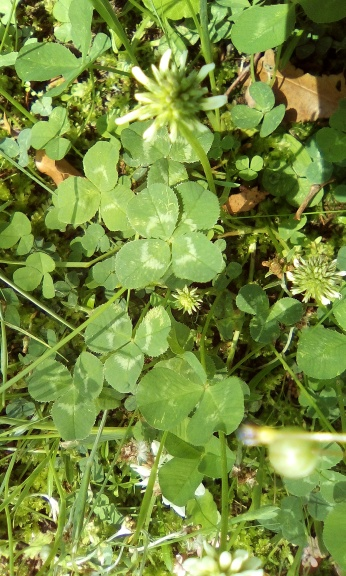4leaf: (113, 181, 224, 290)
